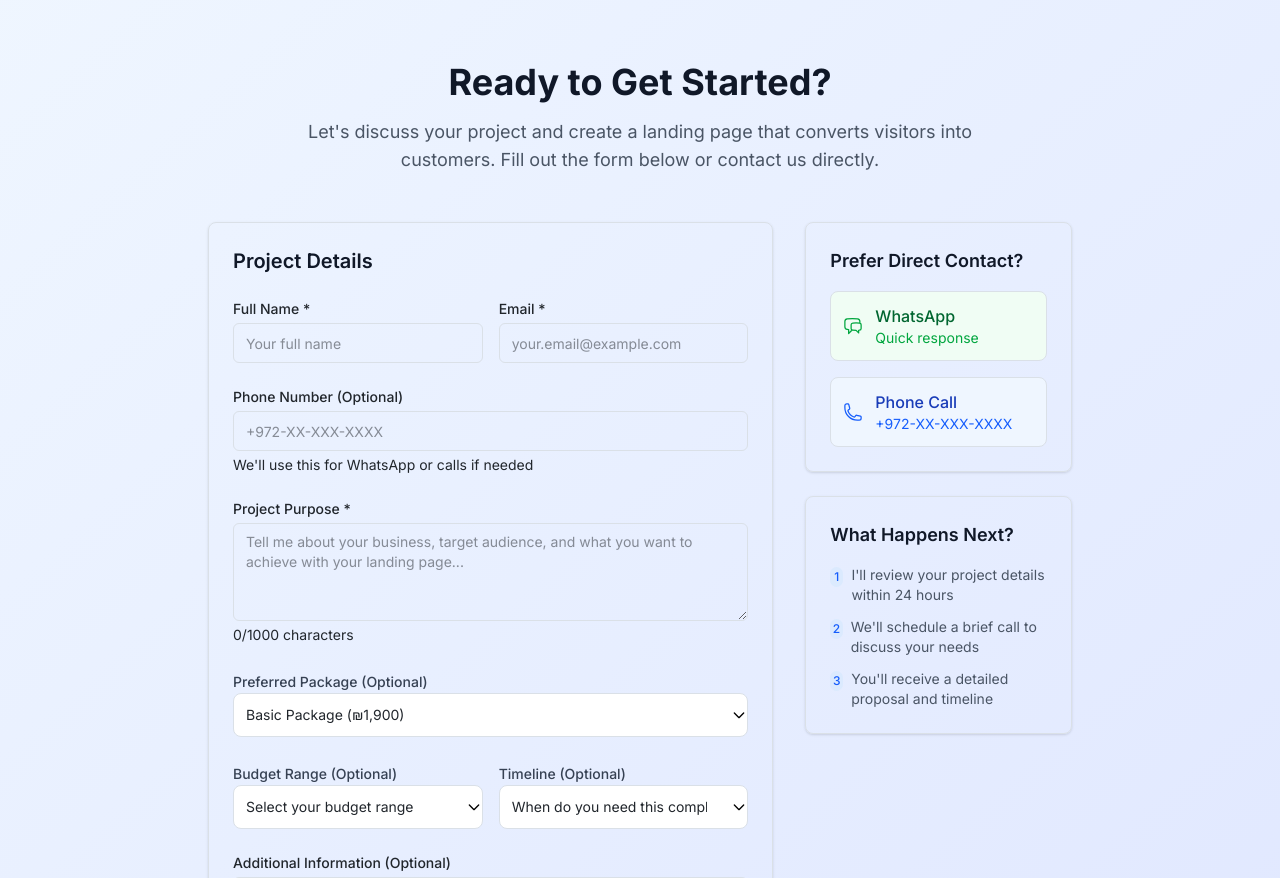
Scenario: Contact Component › shows loading state during submission
// Fill out required fields
Type "John Doe" into the field labelled "Full Name *" at (358, 343), box [233,323,483,363]
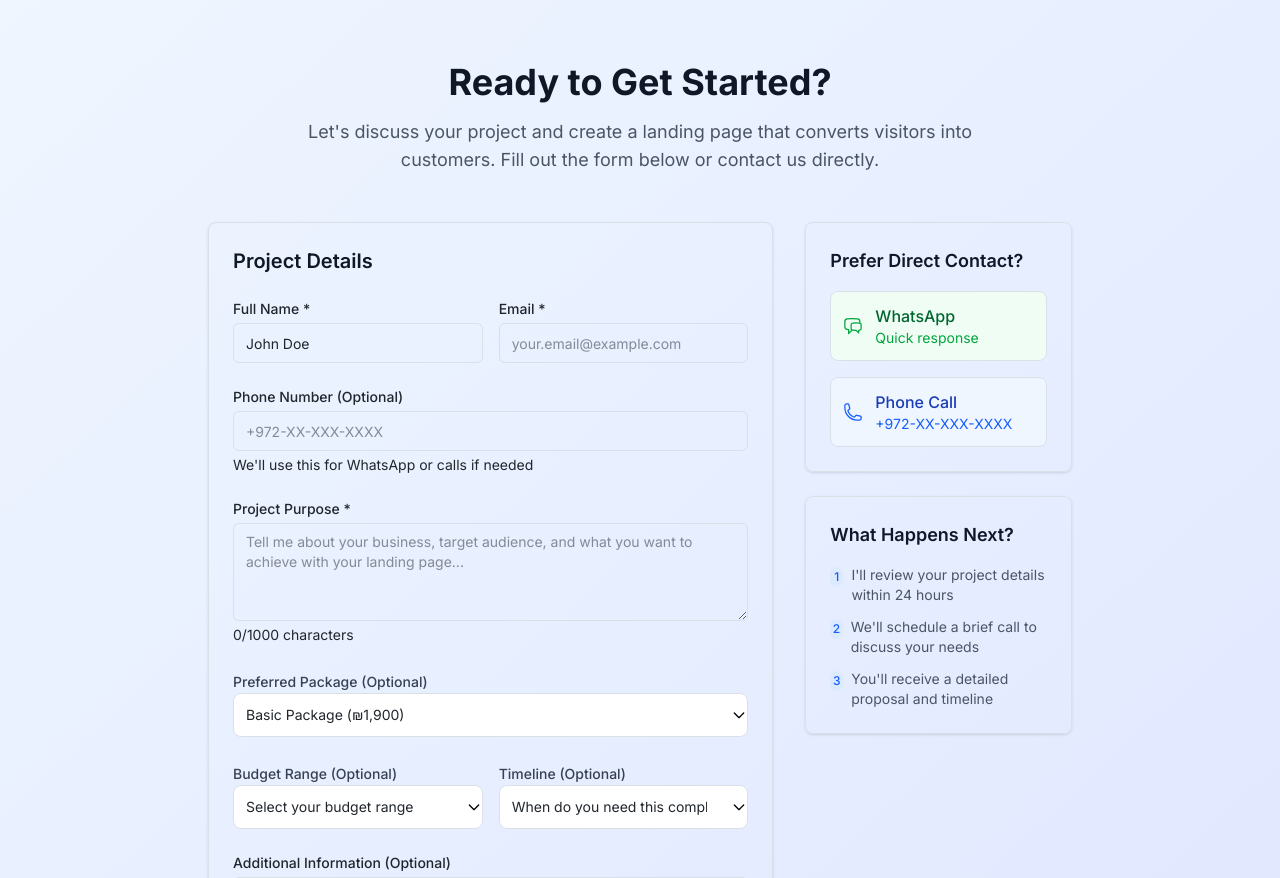
Type "john@example.com" into the field labelled "Email *" at (624, 343), box [499,323,748,363]
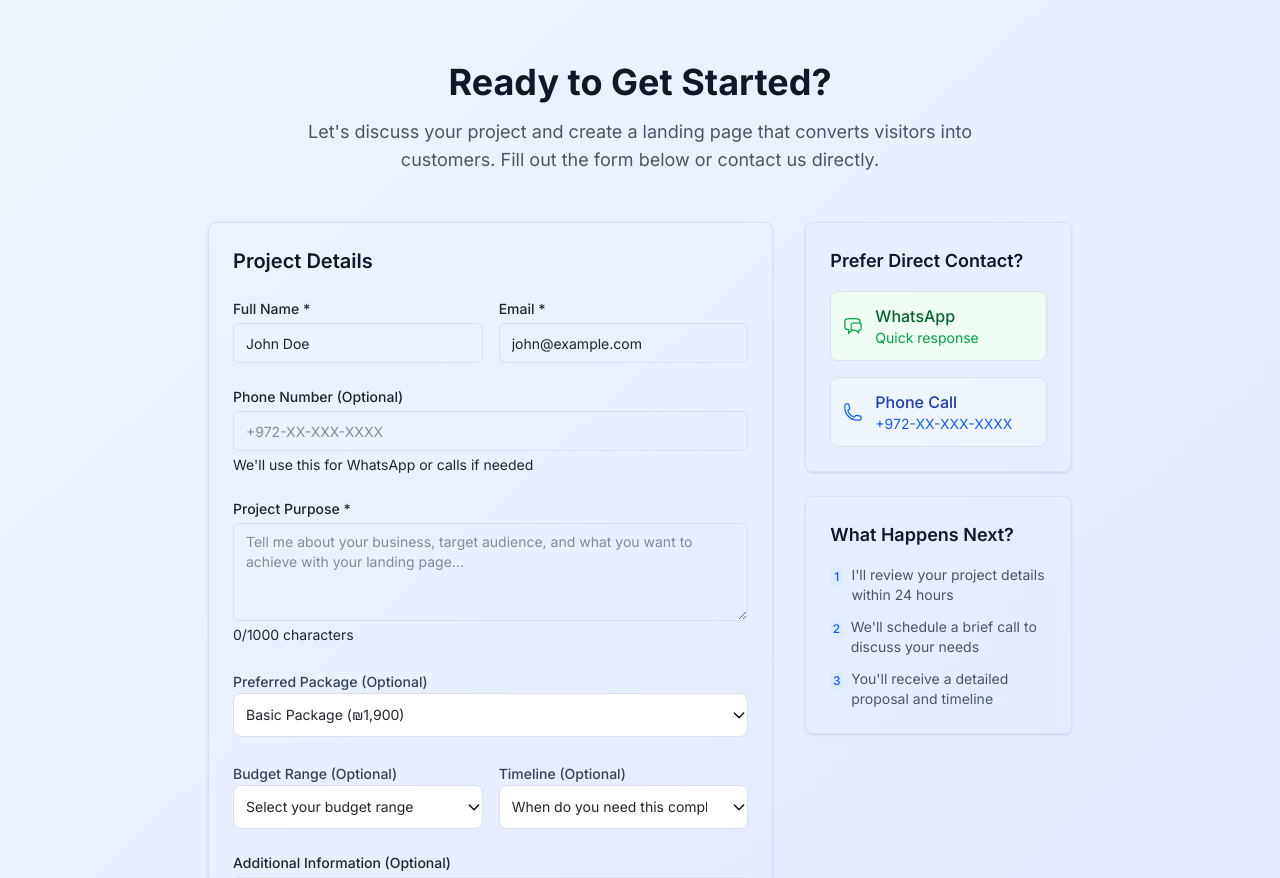
Type "I need a landing page for my business" into the text box labelled "Project Purpose *" at (491, 572), box [233,523,748,621]
(page scrolled)
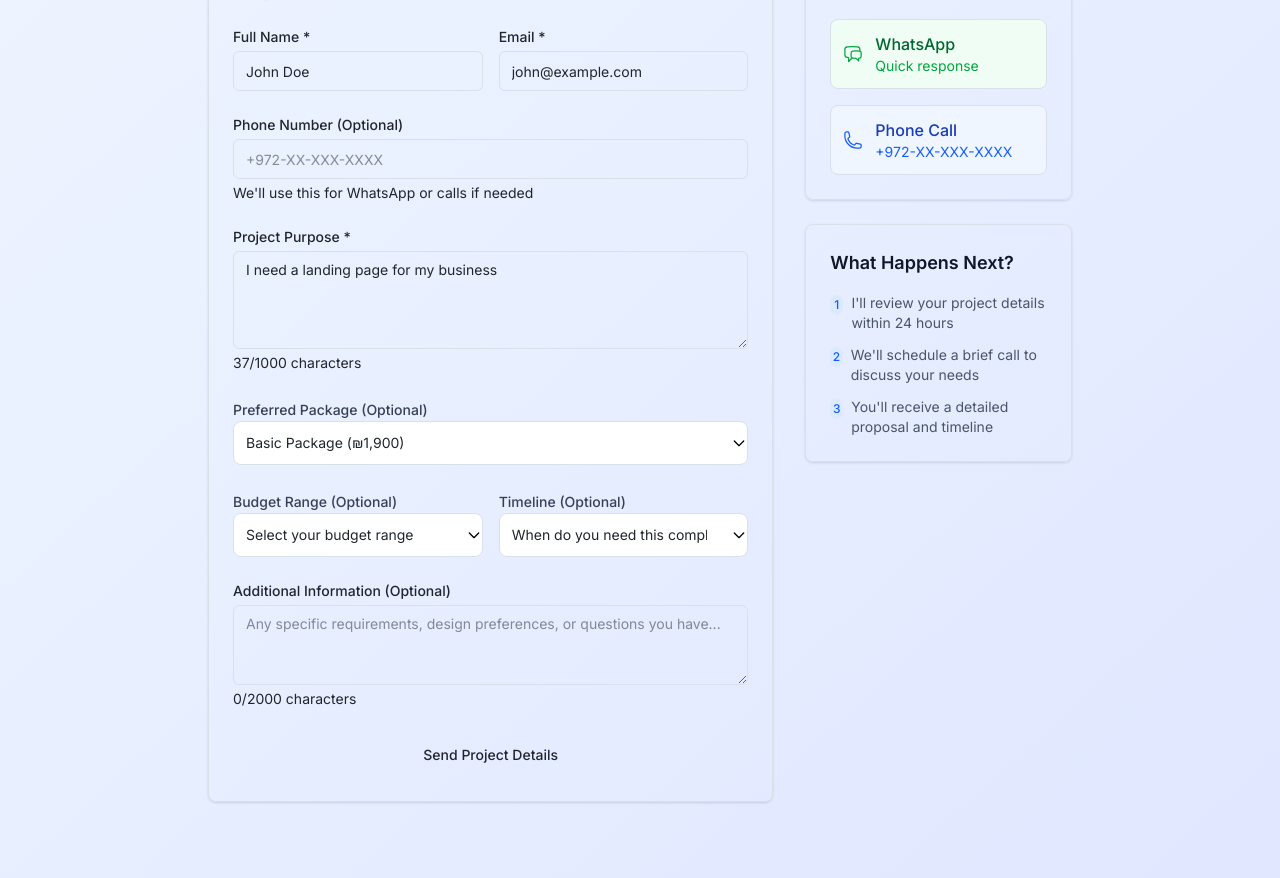
Click the button "Send Project Details" at (491, 755), box [233,733,748,777]
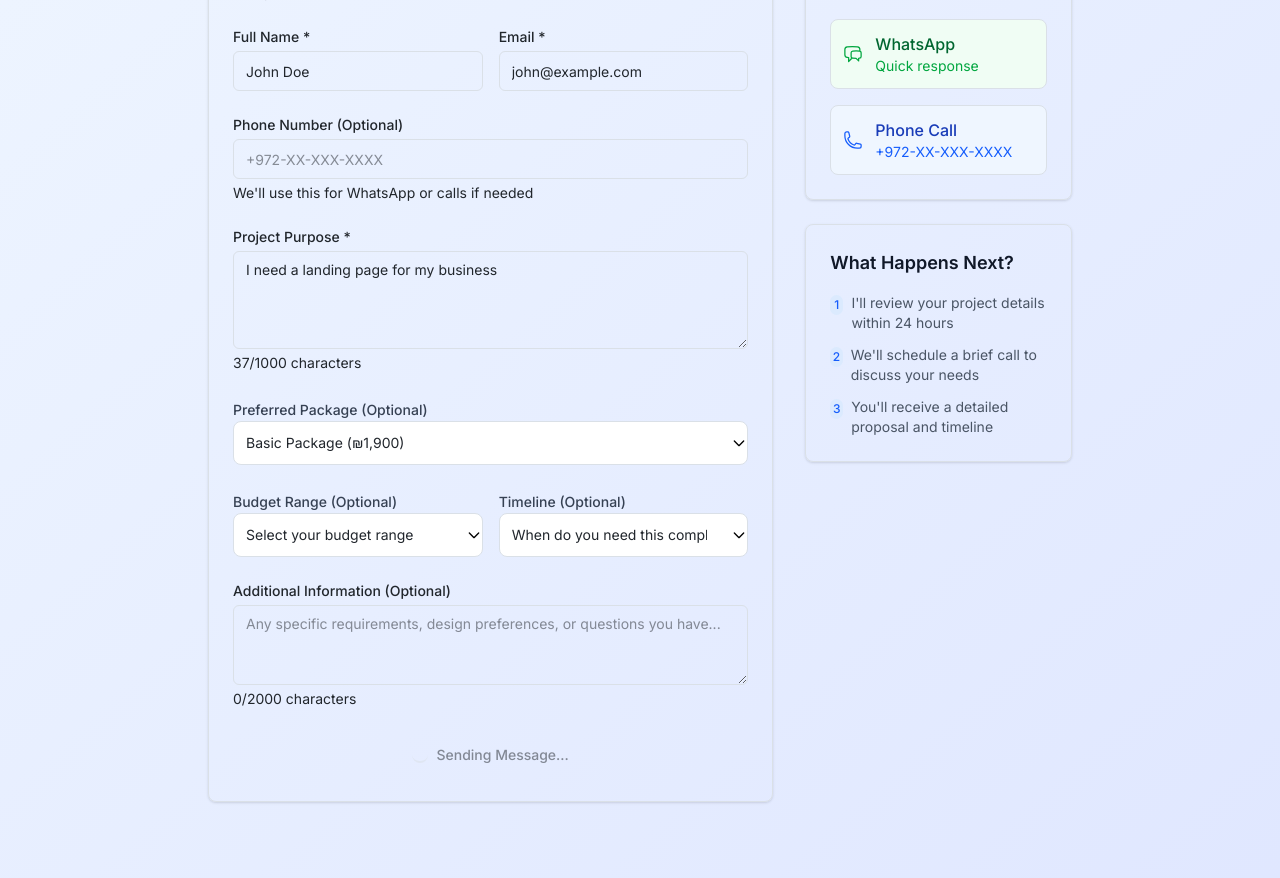
Result: the button "Sending Message..." is disabled at [233,733,748,777]
